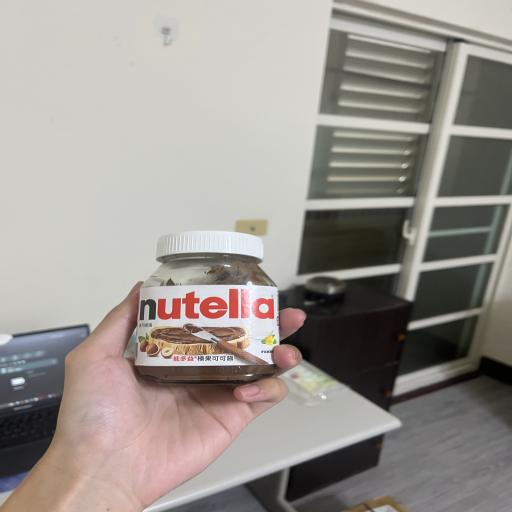chocolate_jar: (135, 231, 280, 384)
